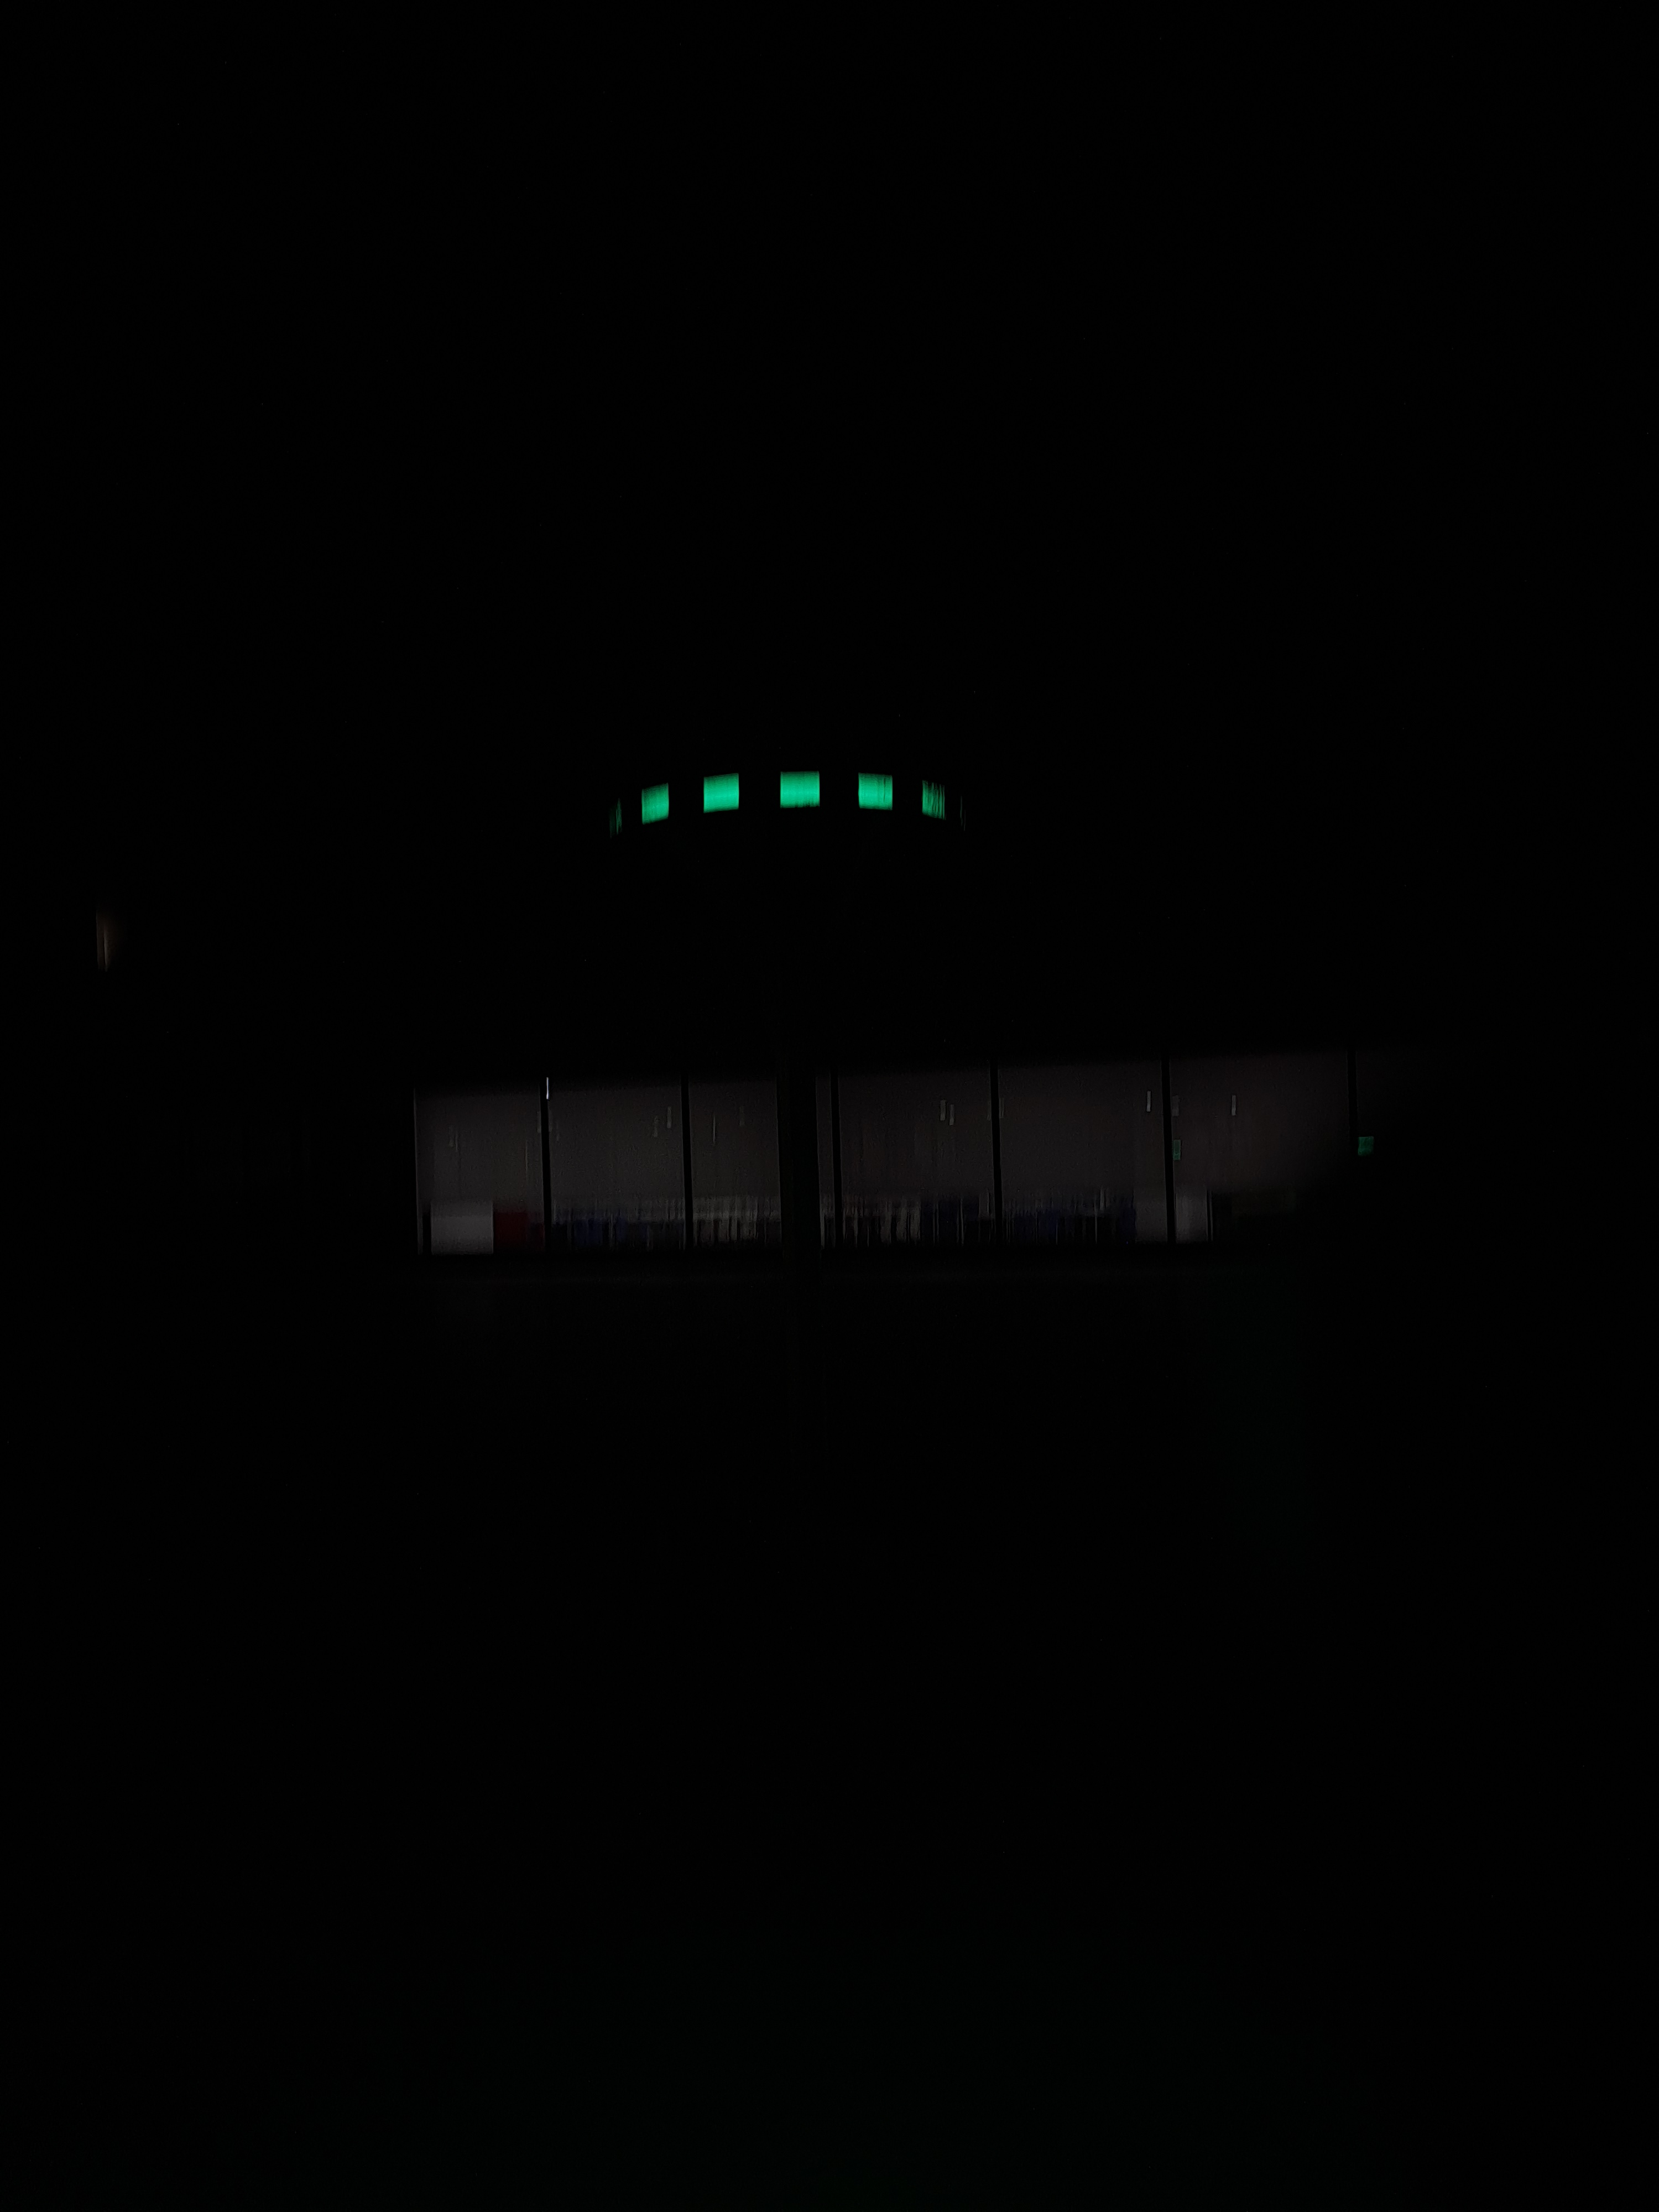hoop: (626, 765, 958, 833)
